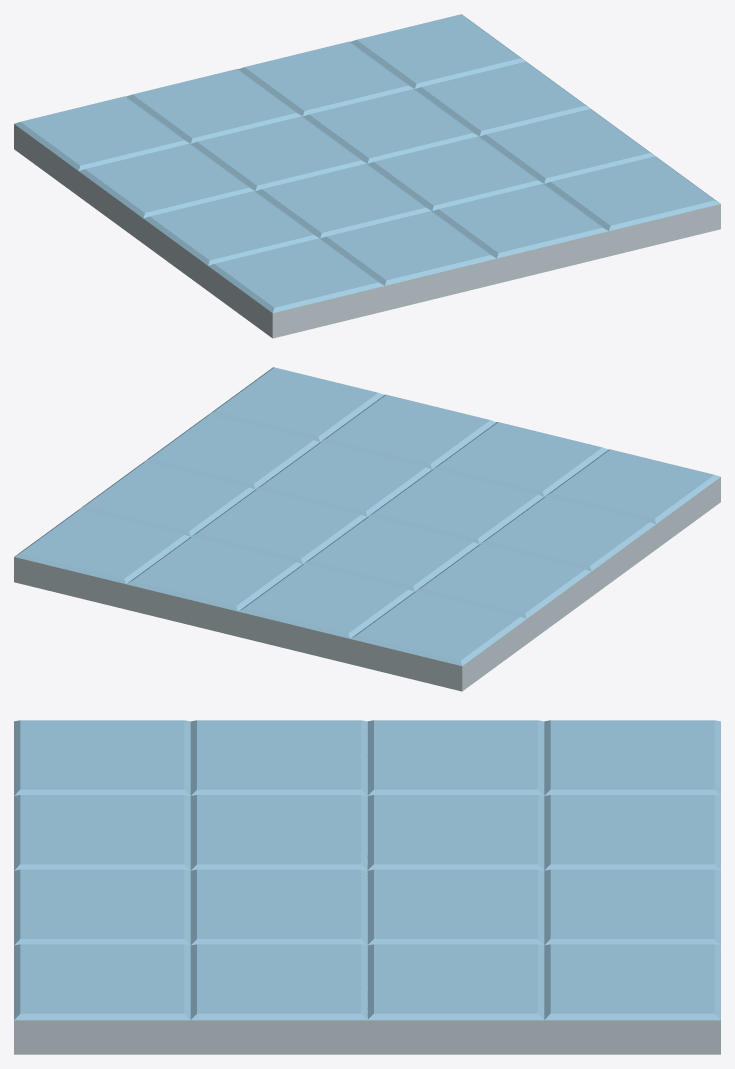
File: wg_boden_bad_a.glb
3 renders of one model, top to bottom at view 1: azimuth 30°, elevation 25°; view 2: azimuth 150°, elevation 25°; view 3: azimuth 270°, elevation 25°, orthographic. The views are drawn at different scales.
Parts seen in each view (by area): view 1: wg_boden_bad_a; view 2: wg_boden_bad_a; view 3: wg_boden_bad_a.
Part boxes in pixels (x1,y1,x2,y2): wg_boden_bad_a: (14,14,720,338); wg_boden_bad_a: (14,367,720,691); wg_boden_bad_a: (14,720,720,1054).
Bounding box in the file's own units: 1 × 0.06 × 1.
